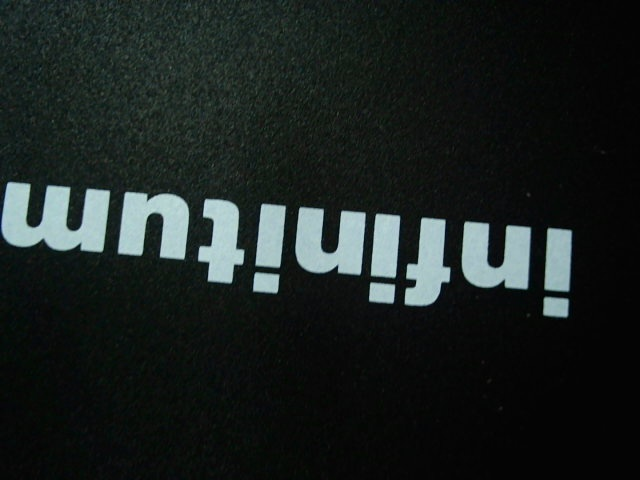BK_infinitum: (1, 172, 578, 325)
